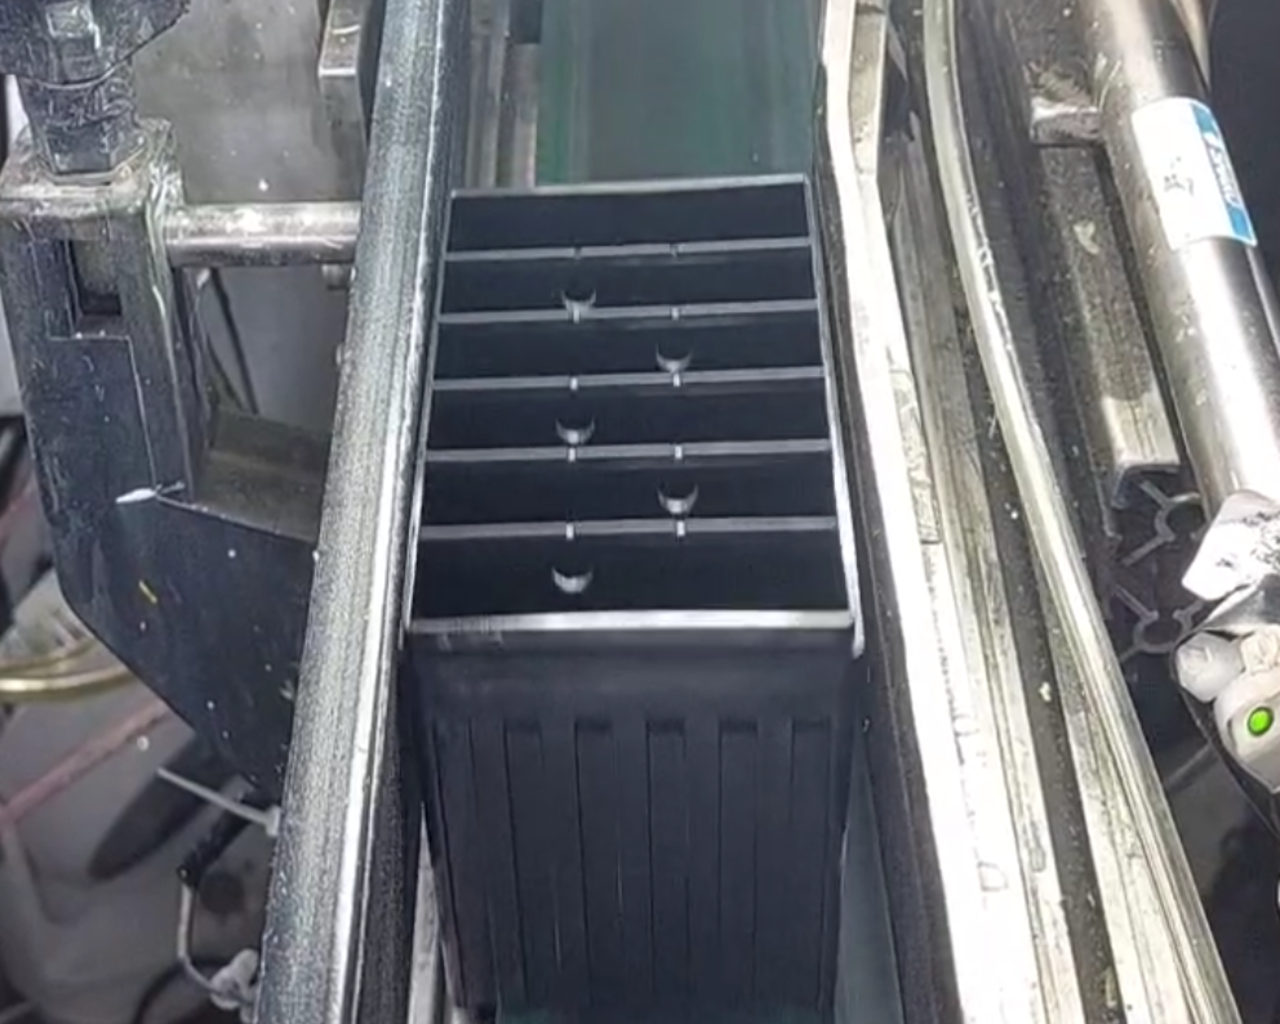box: (382, 155, 878, 669)
round: (642, 462, 711, 526), (535, 537, 605, 600), (637, 318, 703, 381), (544, 392, 610, 453), (555, 264, 609, 316)
